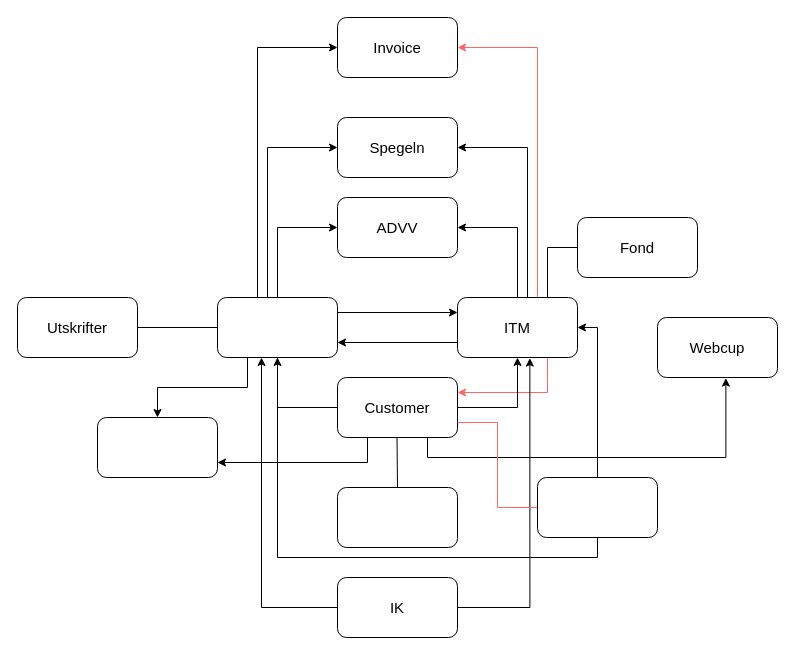
Image size: 795x655. Some labels were removed from this diagram. The shapes that lost their labels are listed below. From the top down, each one's centre as x and y in pixels, then its label:
point 277,327: PPK
point 157,447: PUTS
point 397,517: CM1
point 597,507: Collectum
